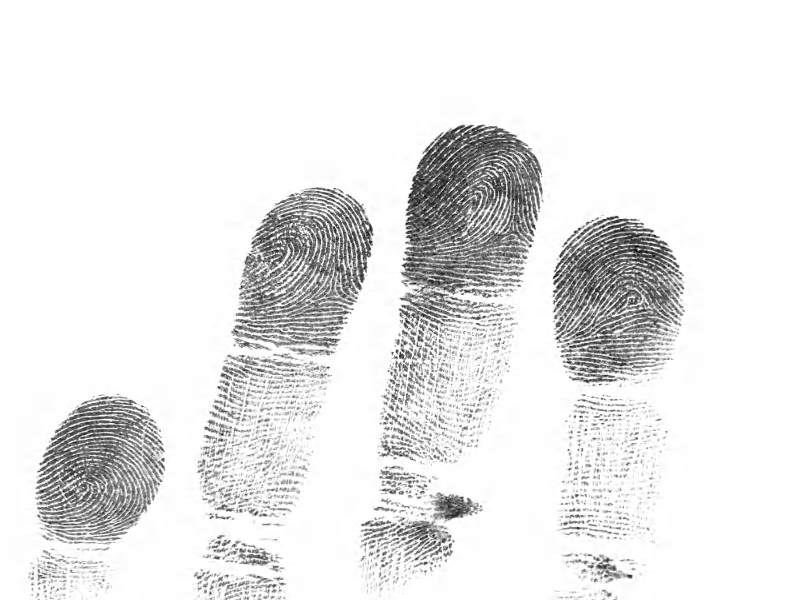D: (197, 160, 397, 380), (385, 103, 567, 316), (14, 371, 192, 569), (542, 209, 696, 394)
P: (354, 290, 521, 496), (174, 345, 345, 540), (538, 382, 677, 556), (23, 546, 110, 600)
